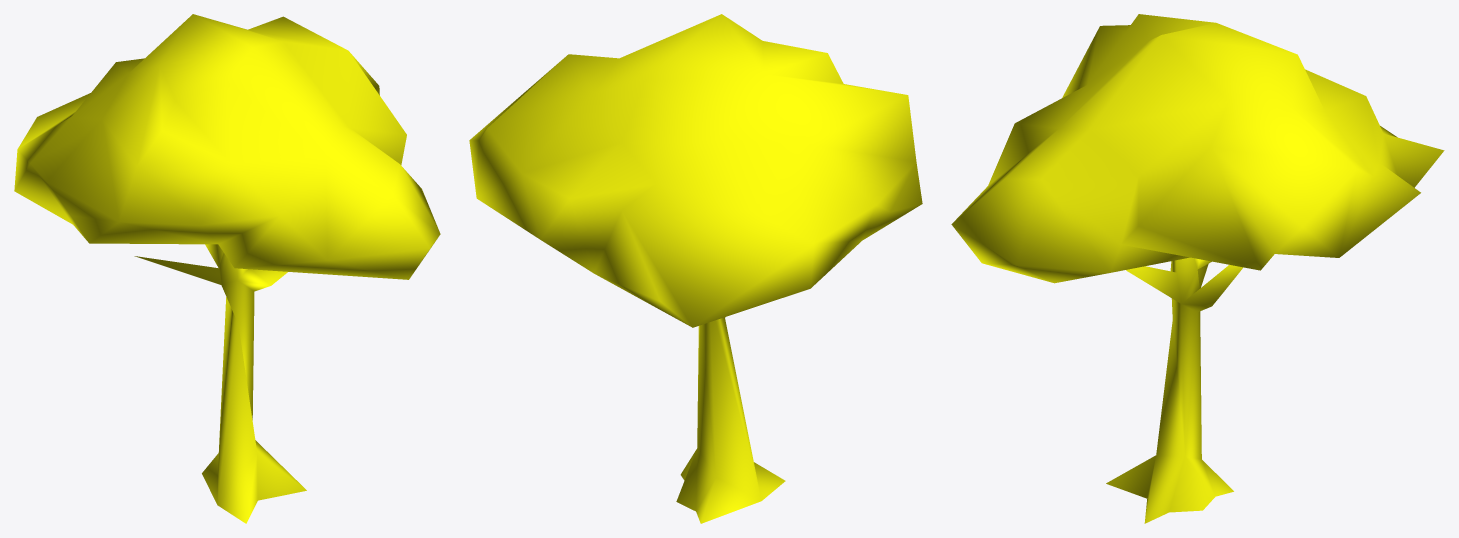
3 views of the same model, side by side, from view 1: azimuth 30°, elevation 25°; view 2: azimuth 150°, elevation 25°; view 3: azimuth 270°, elevation 25° (orthographic). The views are drawn at different scales.
Parts seen in each view (by area): view 1: Tree.001_LOD2; view 2: Tree.001_LOD2; view 3: Tree.001_LOD2.
Boxes of the visible parts, x1,y1,x2,y2 form: Tree.001_LOD2: [14, 14, 440, 523]; Tree.001_LOD2: [469, 14, 922, 523]; Tree.001_LOD2: [951, 14, 1444, 523].
Size of the model in its own units: 2.56 by 3.07 by 2.95.
Materials: 2 (2 with a texture image).
